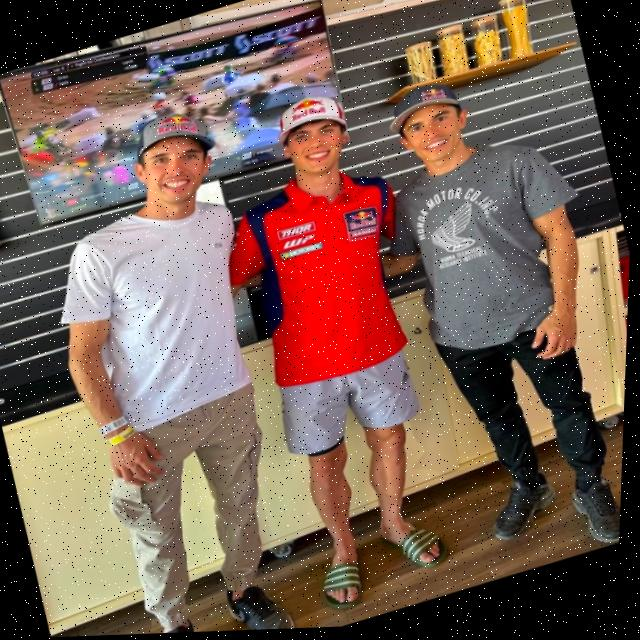illegal_helmet: (120, 100, 234, 219), (376, 73, 485, 180), (267, 85, 365, 189)
